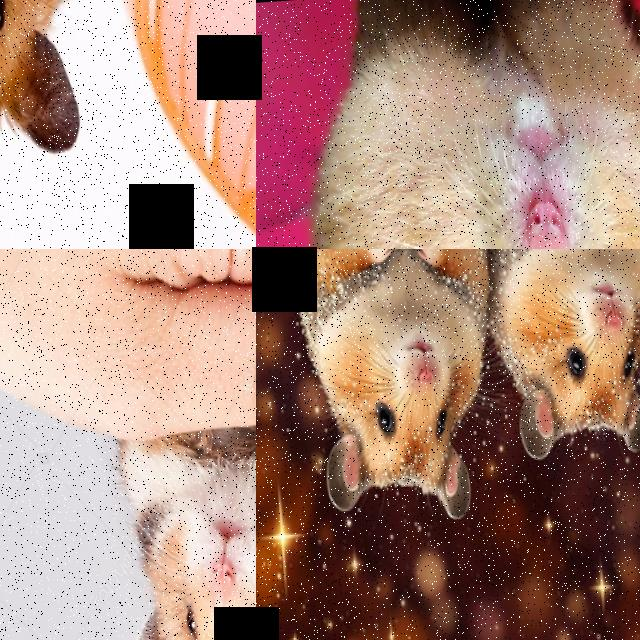hamster: (293, 0, 640, 249), (269, 249, 503, 532), (0, 0, 227, 177), (464, 249, 640, 470), (94, 427, 256, 640)
